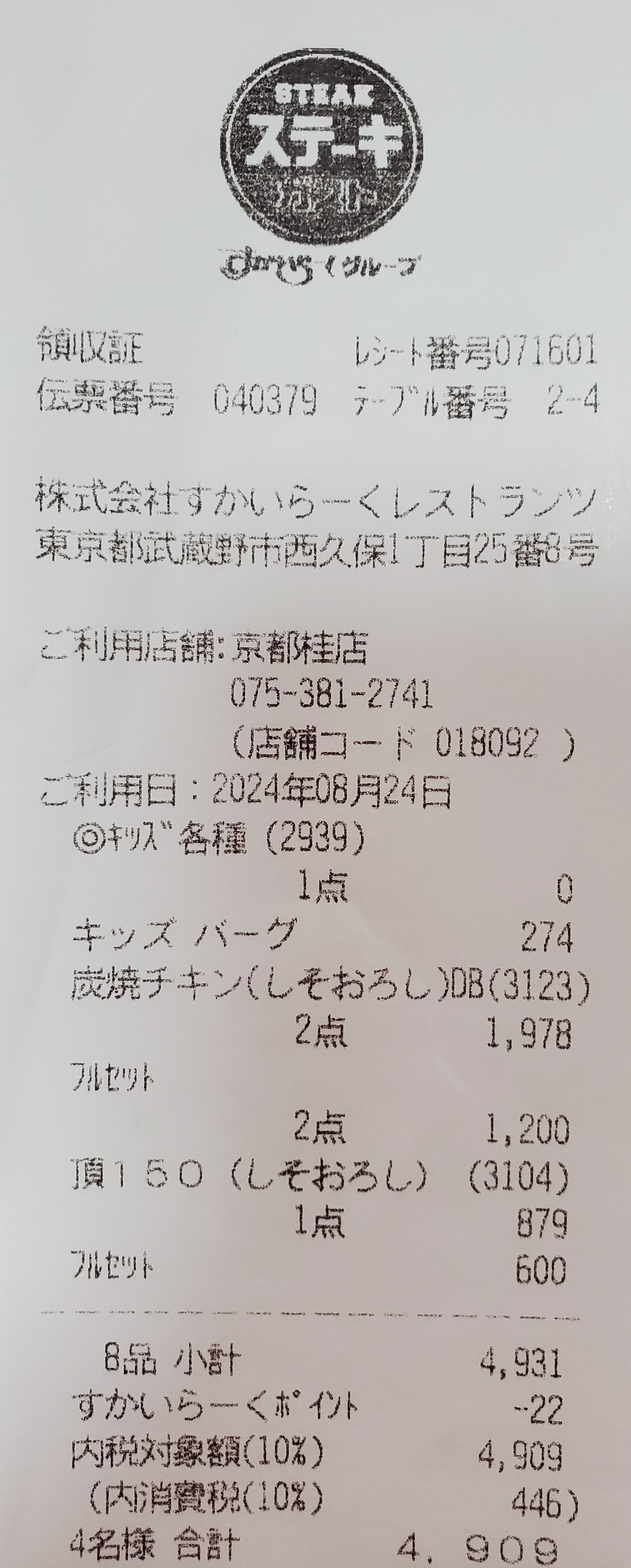Date: (203, 767, 466, 817)
Shopname: (121, 38, 455, 247)
Telnum: (232, 667, 448, 722)
Totalpay: (169, 1523, 562, 1568)
